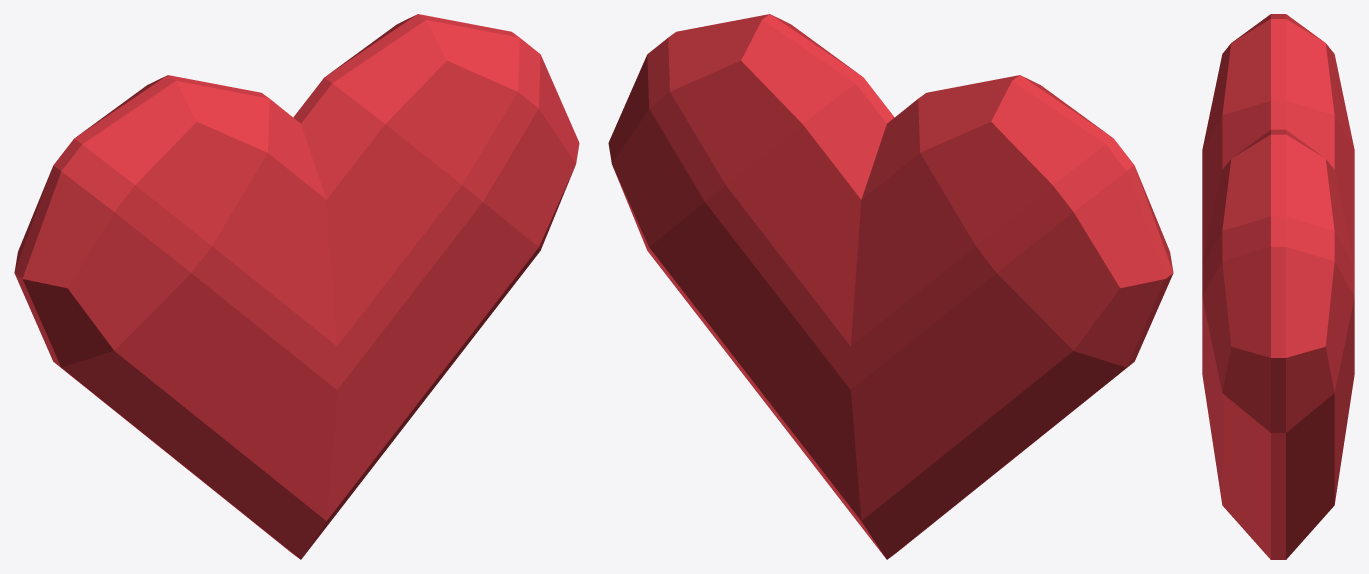
The model's file is coracao.glb.
3 views of the same model, side by side, from view 1: azimuth 30°, elevation 25°; view 2: azimuth 150°, elevation 25°; view 3: azimuth 270°, elevation 25° (orthographic). The views are drawn at different scales.
Parts seen in each view (by area): view 1: Cube.001; view 2: Cube.001; view 3: Cube.001.
Boxes of the visible parts, x1,y1,x2,y2 form: Cube.001: (14,14,579,559); Cube.001: (608,14,1173,559); Cube.001: (1202,14,1354,559).
Size of the model in its own units: 2.1 by 1.84 by 0.5259.
